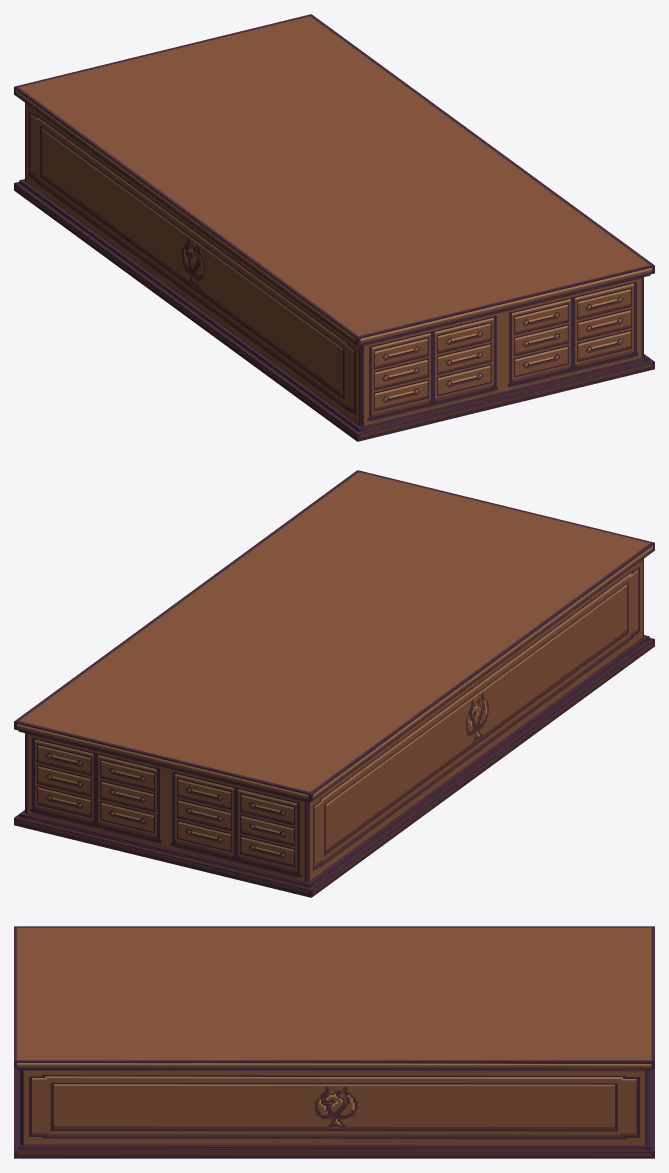
File: Counter.fbx
The picture shows the model from 3 angles, top to bottom: view 1: azimuth 30°, elevation 25°; view 2: azimuth 150°, elevation 25°; view 3: azimuth 270°, elevation 25°; orthographic projection. The views are drawn at different scales.
Visible parts, largest first — view 1: Cube; view 2: Cube; view 3: Cube.
Part boxes in pixels (bbox=[...]): Cube: bbox=[14, 14, 654, 441]; Cube: bbox=[14, 470, 654, 897]; Cube: bbox=[14, 926, 654, 1158].
Bounding box in the file's own units: 600 × 200 × 1200.
4 materials, 4 textured.
